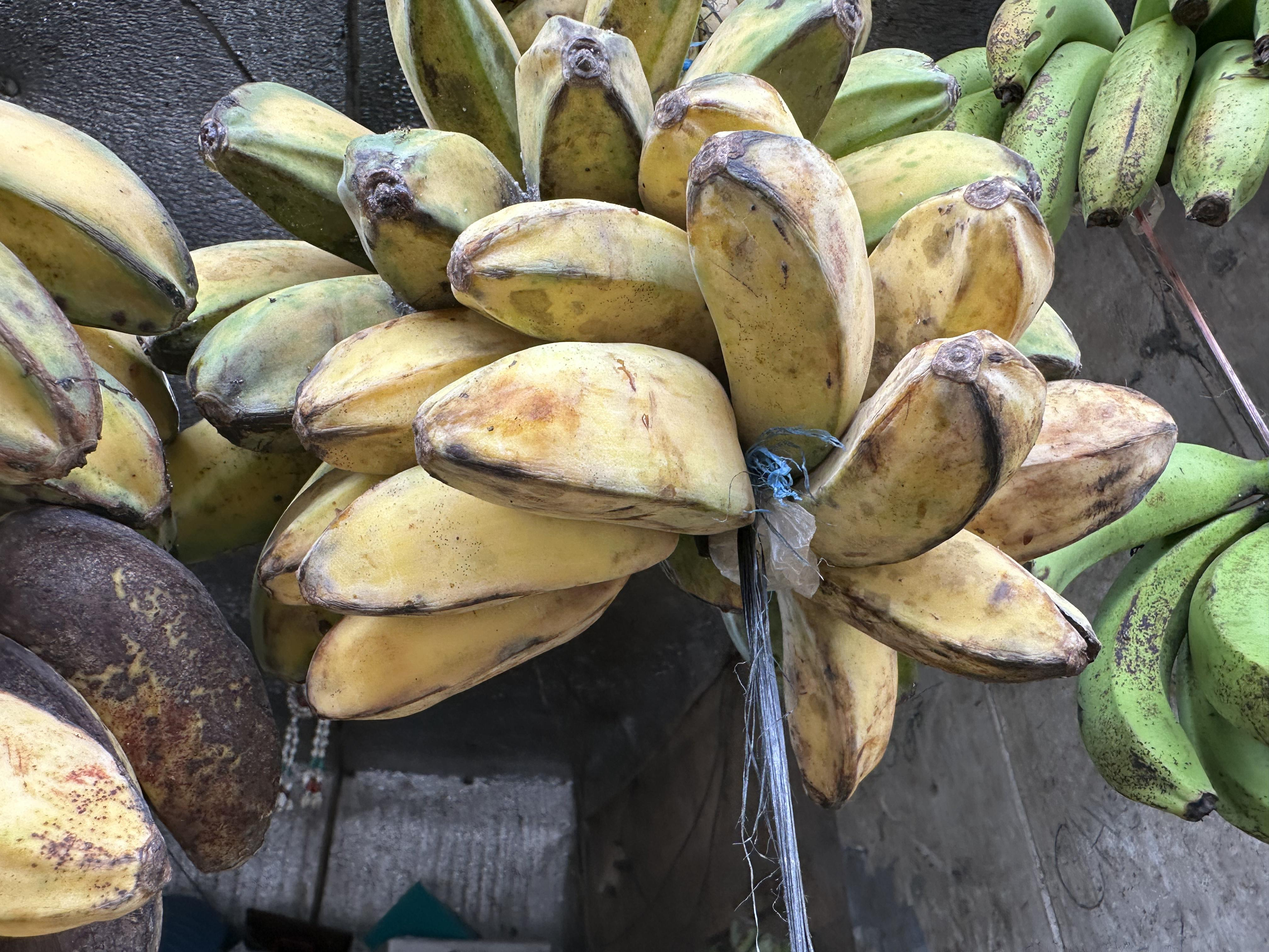underripe: (258, 74, 1180, 817), (144, 0, 1047, 560), (2, 93, 284, 952)
